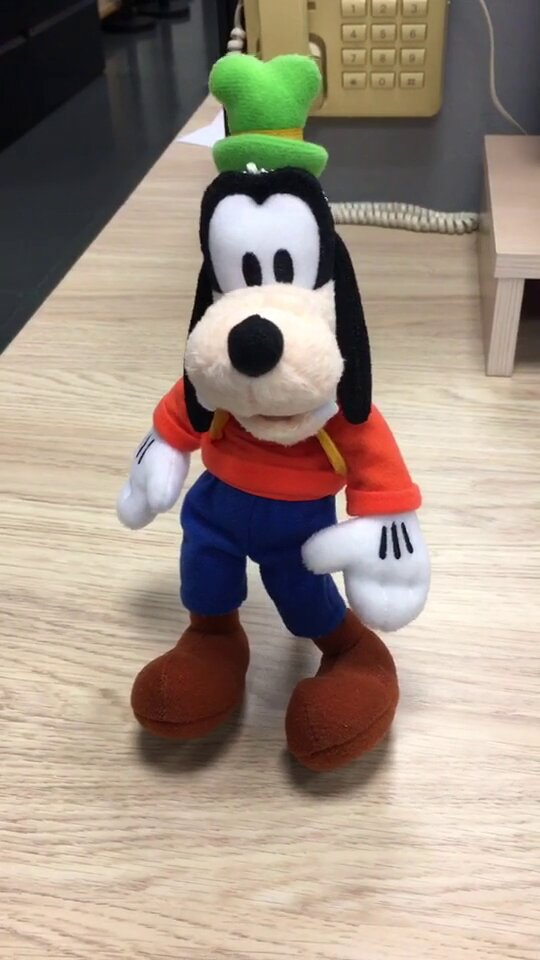goofy: (112, 48, 434, 777)
